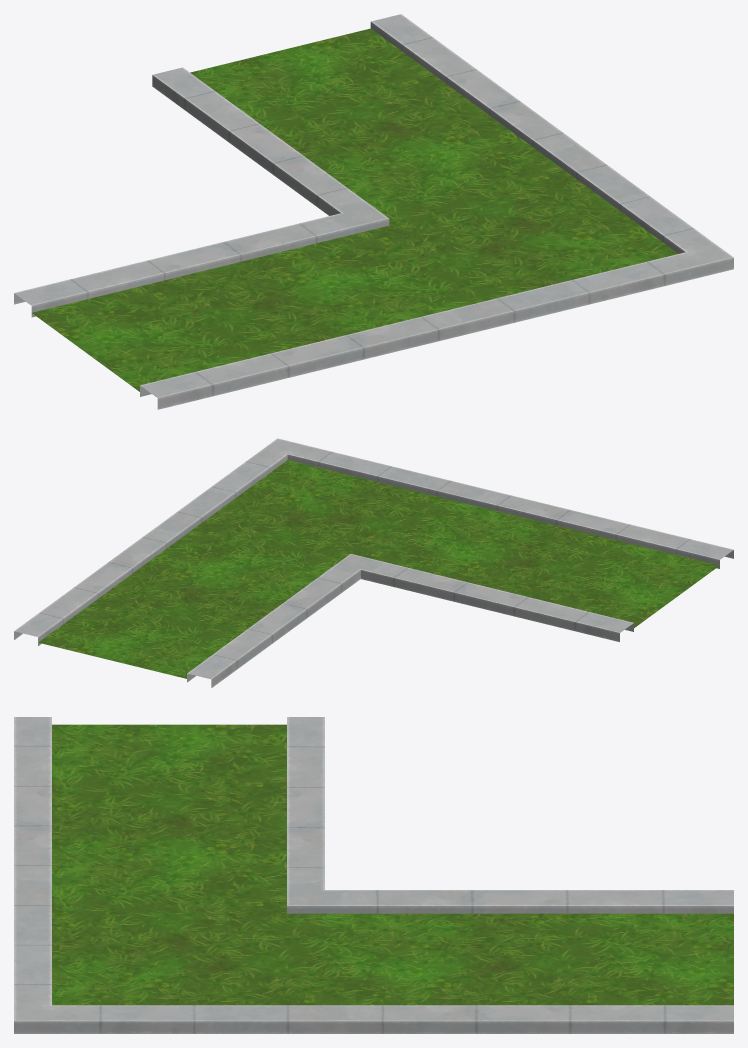
File: flowerBed_low_03.fbx
3 views of the same model, one above another, from view 1: azimuth 30°, elevation 25°; view 2: azimuth 150°, elevation 25°; view 3: azimuth 270°, elevation 25° (orthographic). The views are drawn at different scales.
Visible parts, largest first — view 1: flowerBed_low_03; view 2: flowerBed_low_03; view 3: flowerBed_low_03.
Part boxes in pixels (left/top/right/bottom): flowerBed_low_03: left=14, top=14, right=733, bottom=409; flowerBed_low_03: left=14, top=438, right=733, bottom=687; flowerBed_low_03: left=14, top=717, right=733, bottom=1033.
Size of the model in its own units: 383 by 7.39 by 383.
